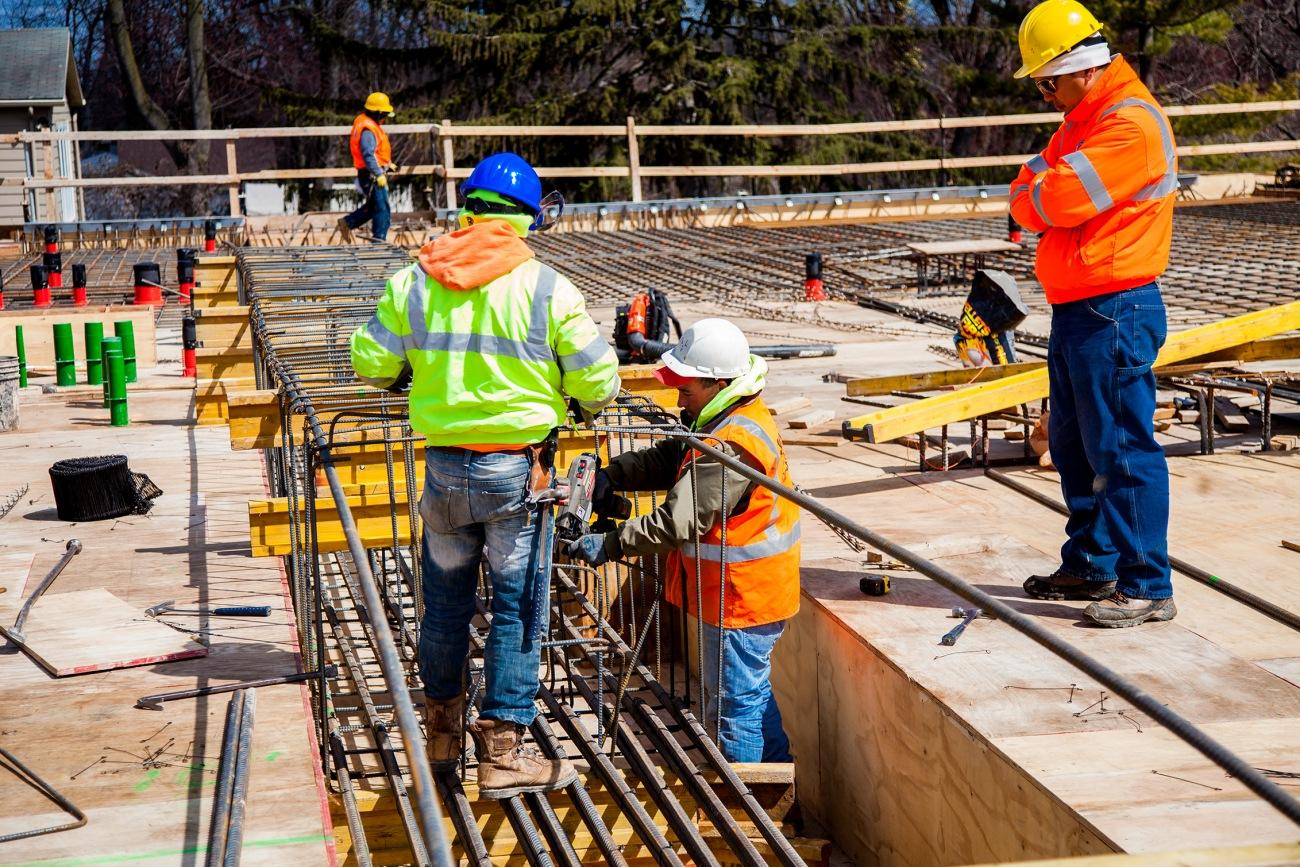helmet: (1010, 2, 1111, 81), (454, 154, 549, 223), (668, 319, 758, 382), (366, 92, 397, 113)
